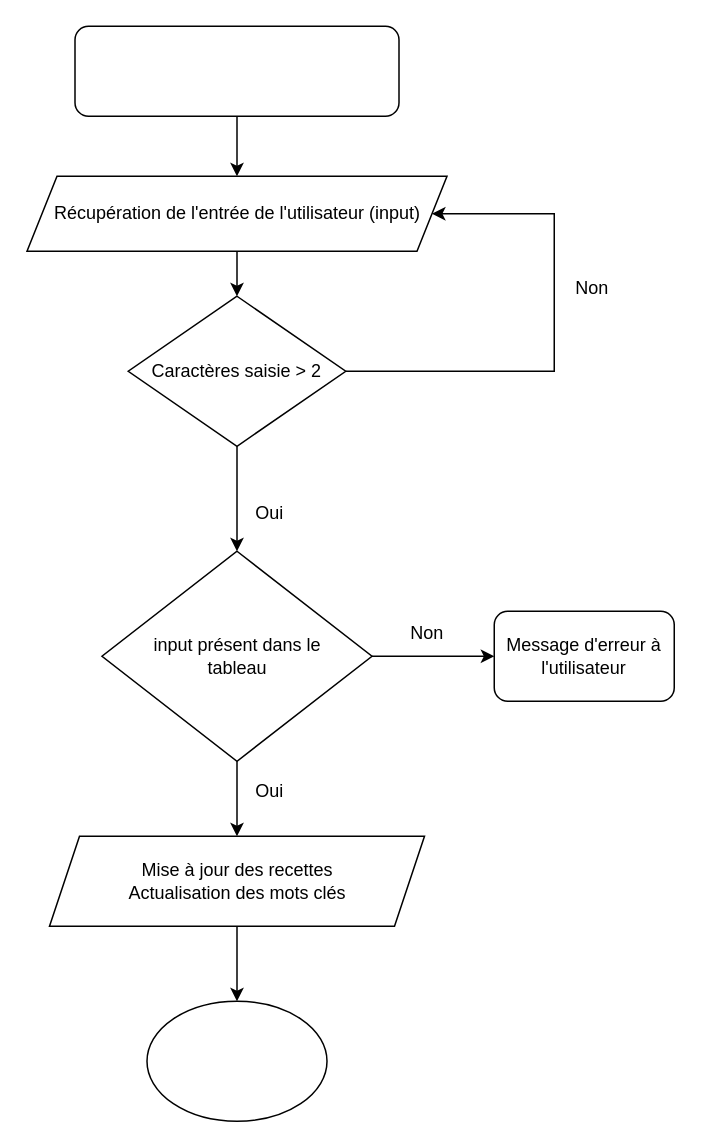
Image size: 701x1148. Some labels were removed from this diagram. The box of each missing label's shape, as (x1, y1, x2, y2) in pixels:
DEBUT L'interface affiche tout: (74, 25, 399, 116)
FIN Choix d'une recette: (146, 1000, 327, 1121)
